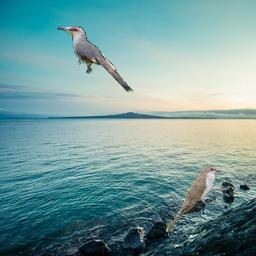Cuckoo: (57, 26, 134, 94), (166, 166, 222, 232)
